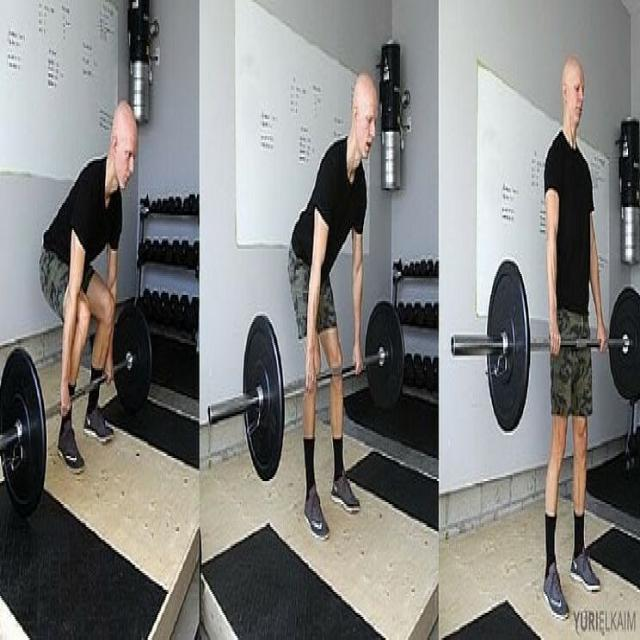deadlift: (447, 35, 640, 626), (221, 64, 413, 546), (0, 86, 160, 535)
